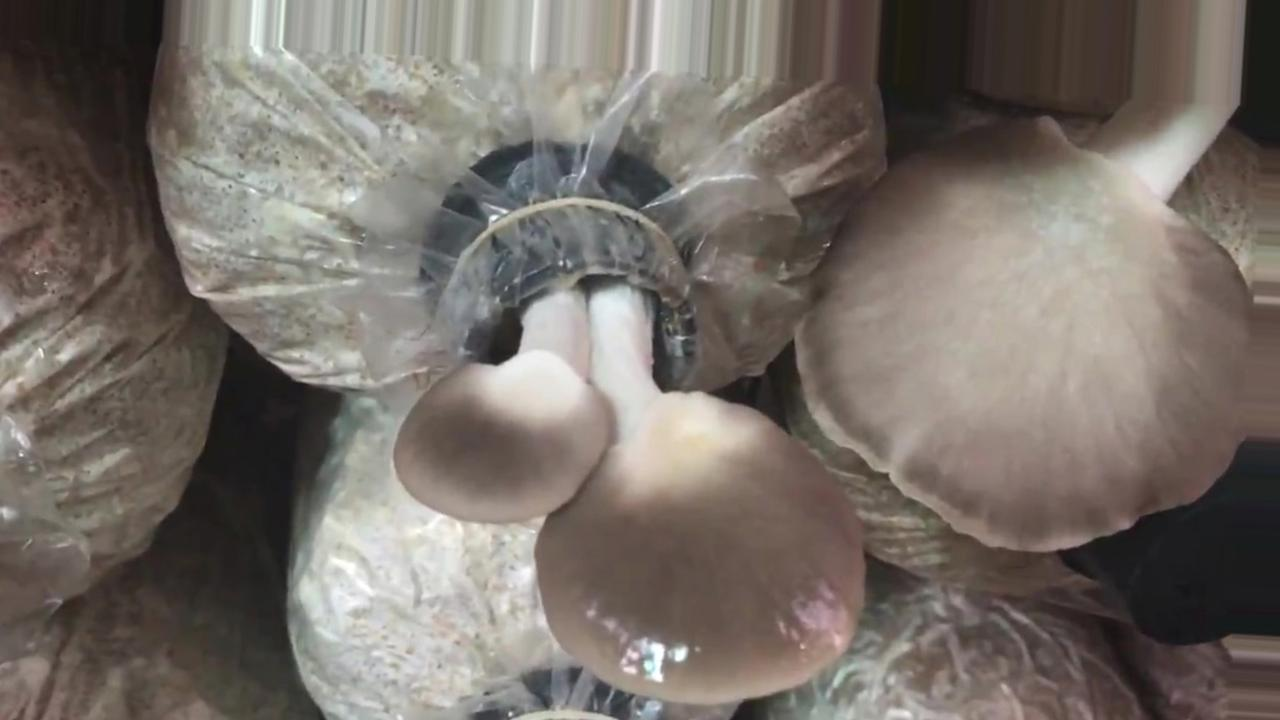nam: (788, 2, 1280, 555), (389, 180, 864, 705)
